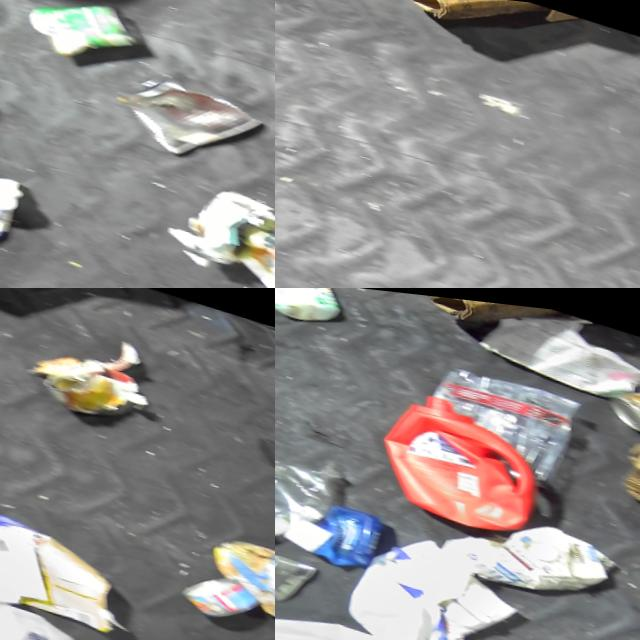can: (110, 58, 275, 170), (33, 335, 154, 422), (21, 0, 155, 73), (180, 549, 275, 618), (275, 538, 327, 607), (601, 360, 640, 442)
milk_jug: (344, 553, 460, 640), (275, 587, 436, 640), (0, 567, 97, 640), (119, 603, 275, 640)
non_white_jug: (368, 376, 561, 536)
plastic_bottle: (275, 430, 352, 552)
